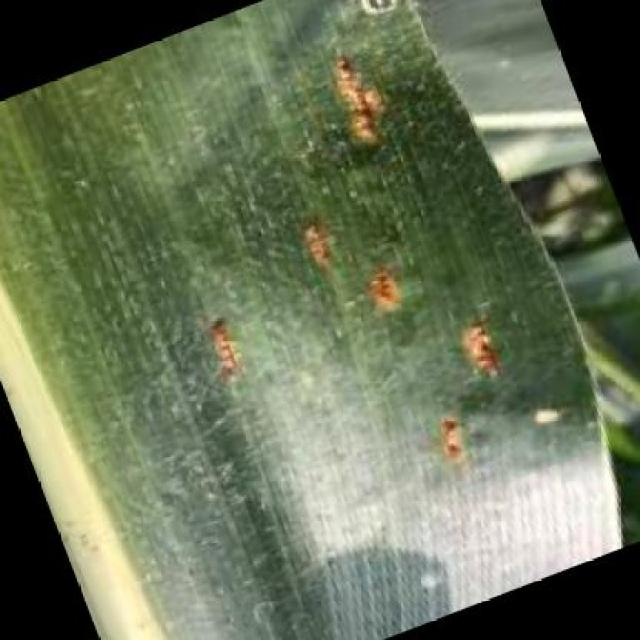Corn_Rust: (162, 46, 582, 559)
